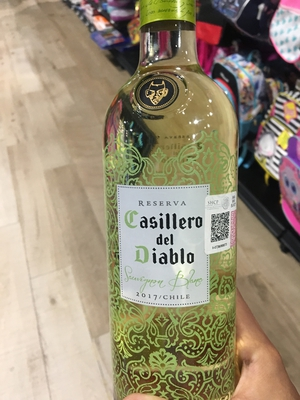casillero del diablo sauvignon blanc: (98, 10, 263, 400)
